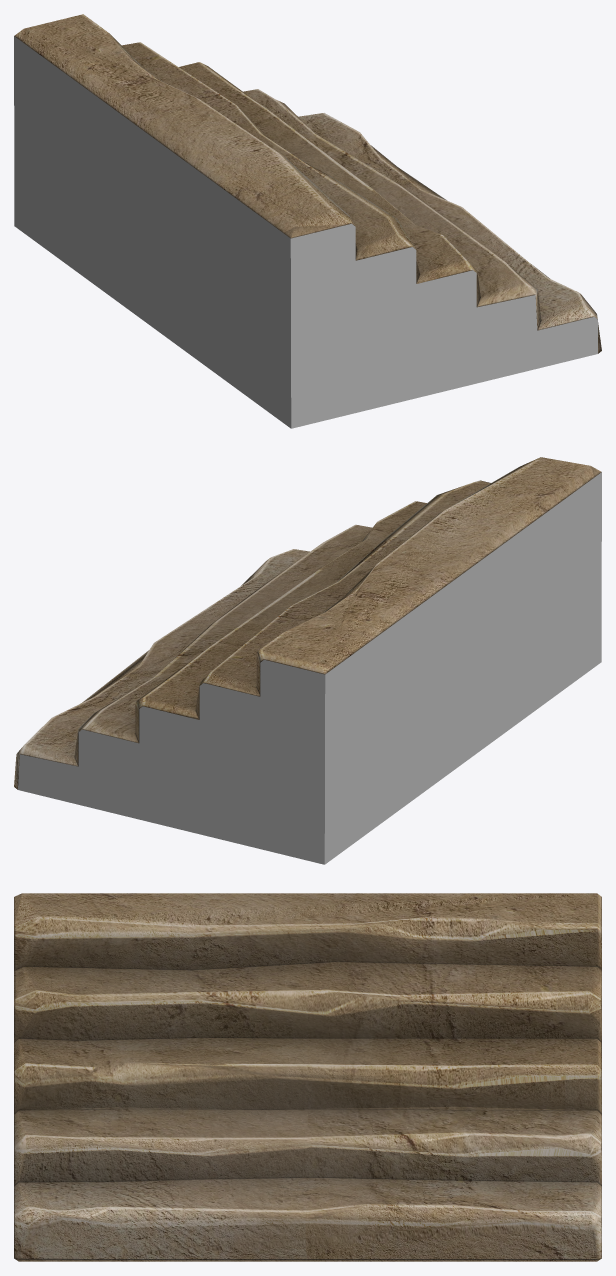
File: lower_city_stair_02_short.fbx
3 views of the same model, one above another, from view 1: azimuth 30°, elevation 25°; view 2: azimuth 150°, elevation 25°; view 3: azimuth 270°, elevation 25° (orthographic). The views are drawn at different scales.
Parts seen in each view (by area): view 1: lower_city_stair_02_short; view 2: lower_city_stair_02_short; view 3: lower_city_stair_02_short.
Part boxes in pixels (x1,y1,x2,y2): lower_city_stair_02_short: (14, 14, 601, 428); lower_city_stair_02_short: (14, 457, 601, 864); lower_city_stair_02_short: (14, 893, 601, 1261).
Bounding box in the file's own units: 1.29 × 0.7777 × 1.98.
